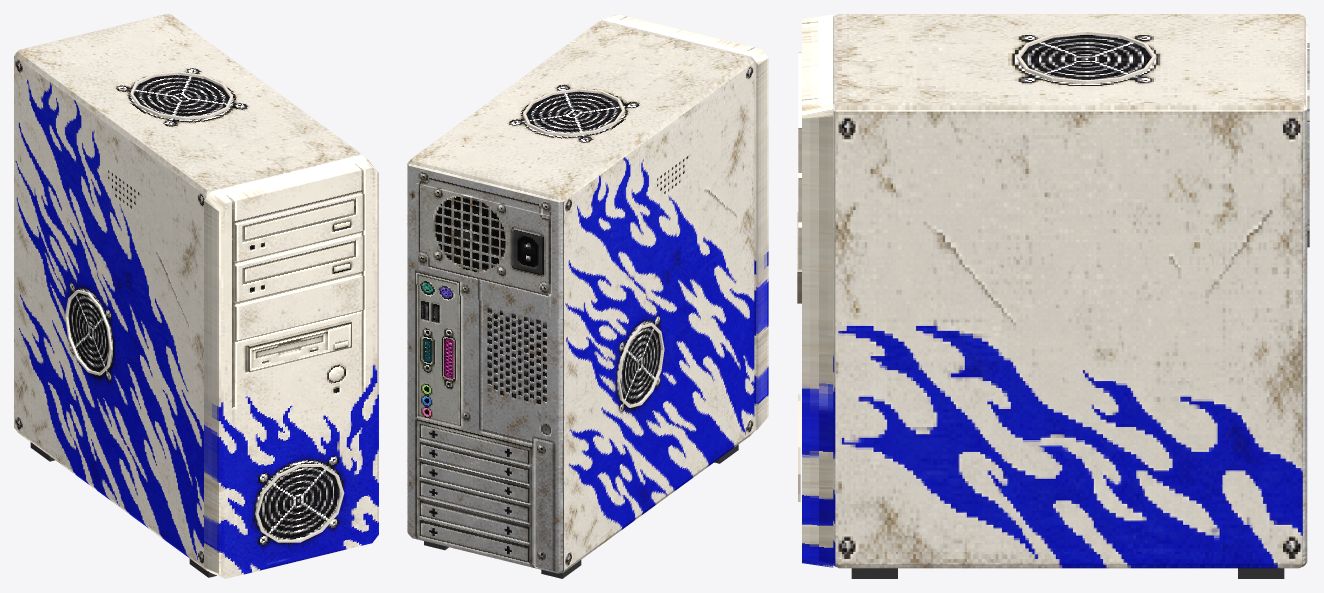
Rendered from PC_PSX.glb.
3 views of the same model, side by side, from view 1: azimuth 30°, elevation 25°; view 2: azimuth 150°, elevation 25°; view 3: azimuth 270°, elevation 25° (orthographic). The views are drawn at different scales.
Parts seen in each view (by area): view 1: PC_Tower_PSX; view 2: PC_Tower_PSX; view 3: PC_Tower_PSX.
Boxes of the visible parts, x1,y1,x2,y2 form: PC_Tower_PSX: (14, 14, 378, 578); PC_Tower_PSX: (407, 14, 768, 578); PC_Tower_PSX: (797, 14, 1309, 578).
Bounding box in the file's own units: 0.2 × 0.459 × 0.443.
1 material, 1 textured.
